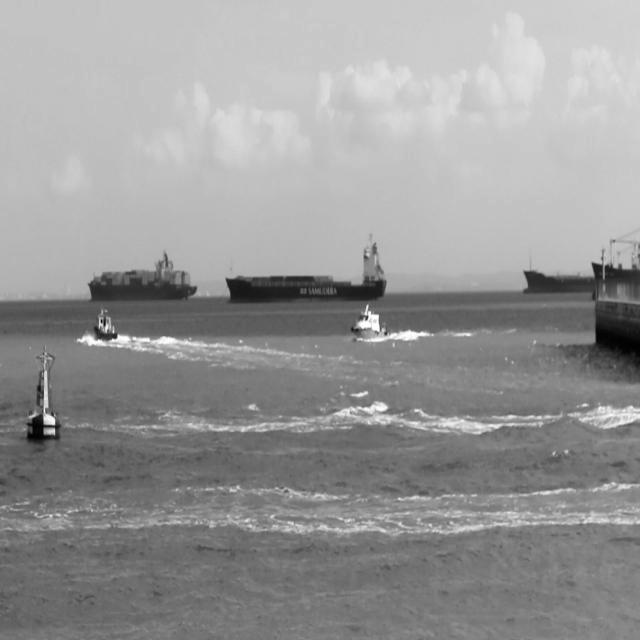buoy: (26, 346, 61, 440)
ship: (225, 230, 388, 304), (89, 246, 198, 302), (523, 254, 595, 294), (350, 305, 390, 342), (92, 302, 119, 342)
